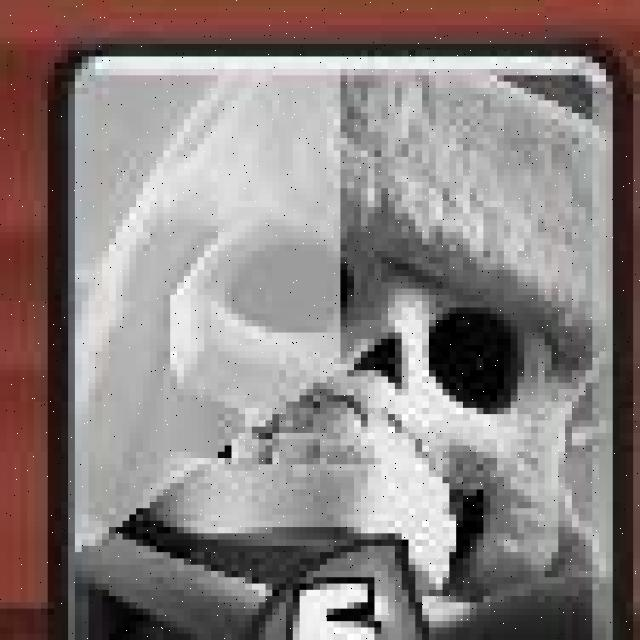Giant_Skeleton: (56, 46, 627, 640)
